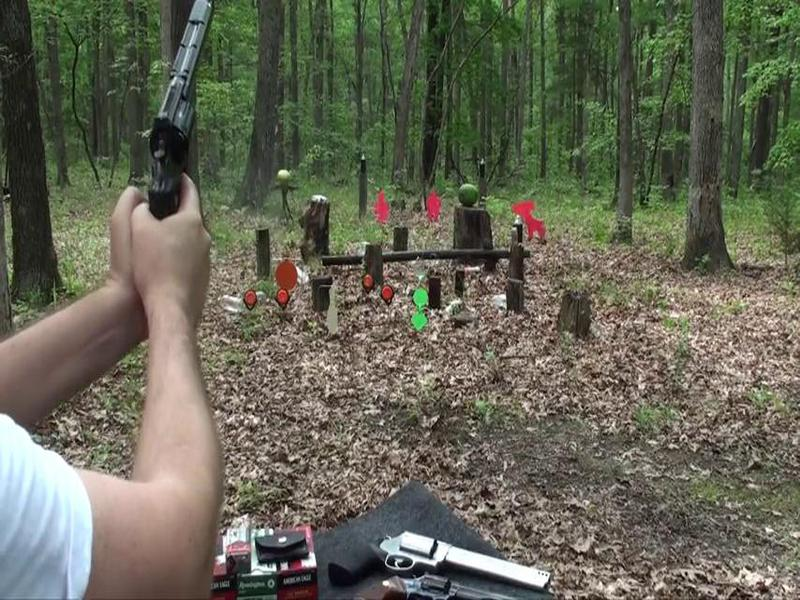Revolver: (103, 1, 230, 219)
